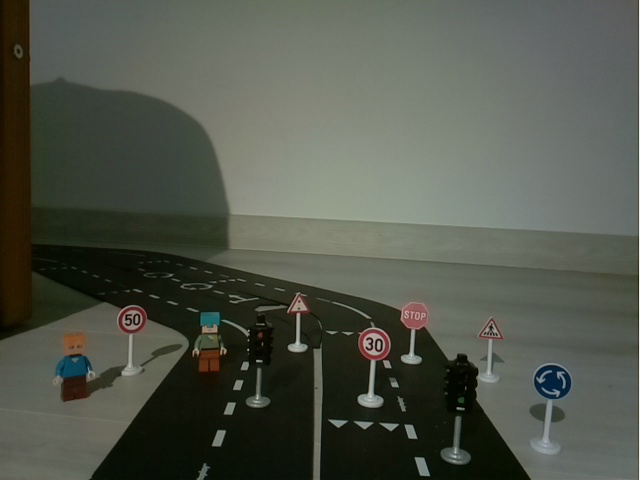green light: (442, 354, 478, 468)
limit 30: (355, 328, 391, 412)
limit 50: (111, 302, 151, 381)
pedestrian sign: (476, 311, 506, 385)
person: (50, 331, 100, 406), (188, 309, 233, 377)
red light: (245, 314, 276, 412)
round: (525, 359, 579, 460)
stop: (397, 298, 431, 372)
traffic light sign: (283, 290, 315, 358)
